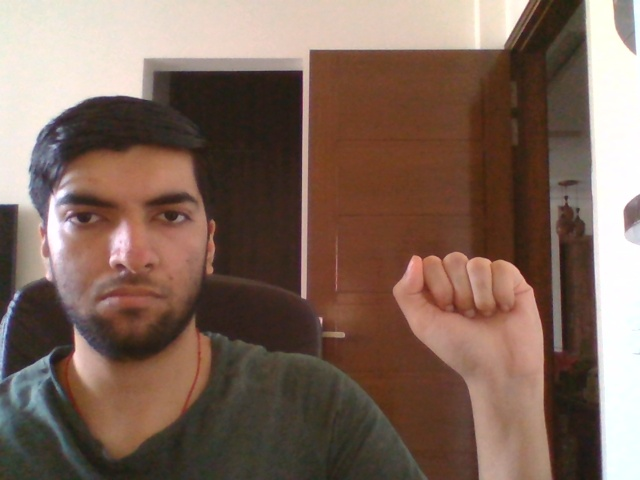LetterA: (390, 250, 545, 392)
